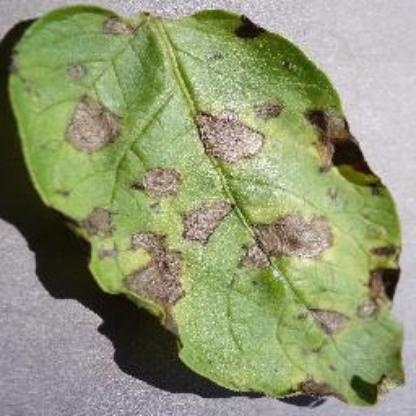Early-Blight: (7, 1, 409, 407)
